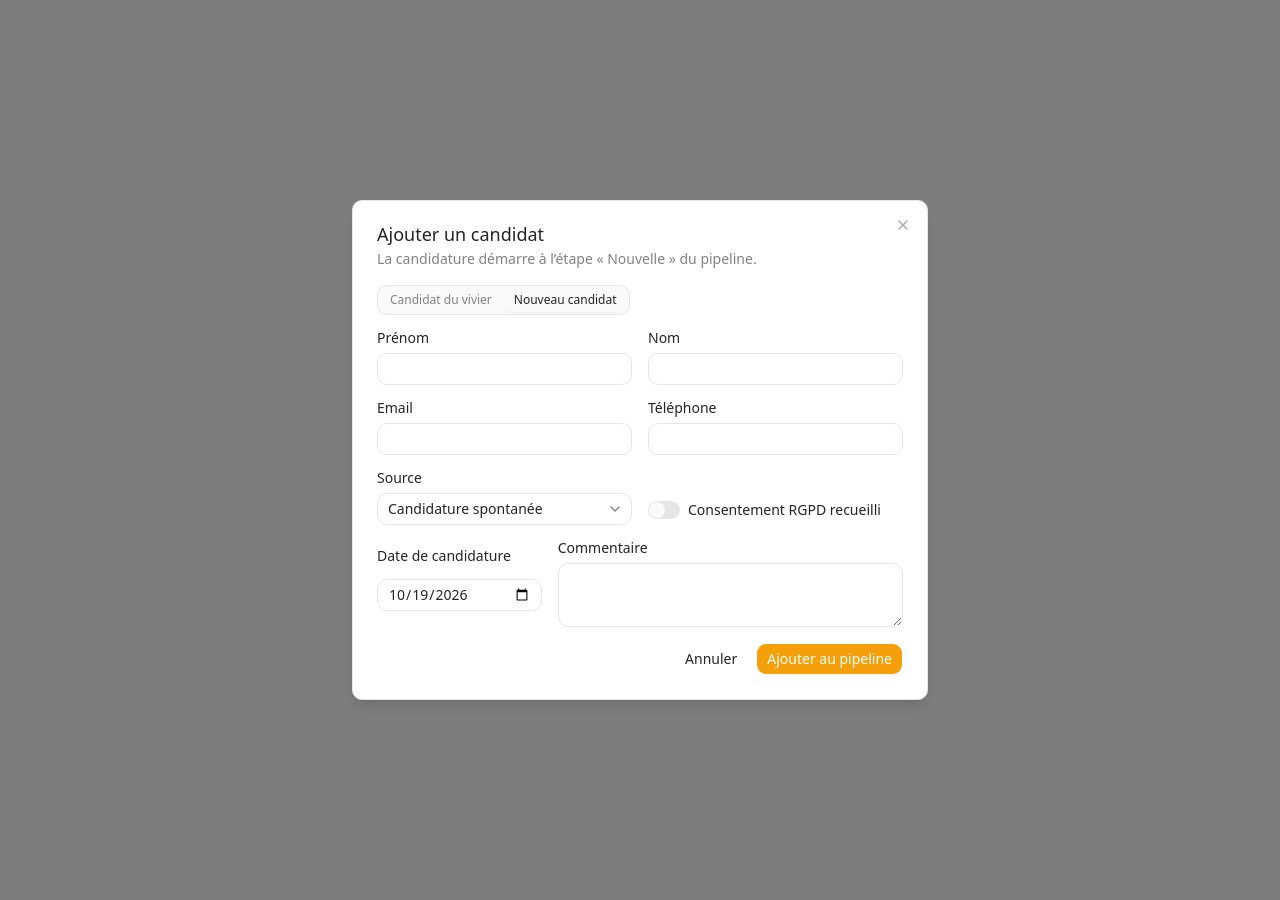
Scenario: AjoutCandidatureDialog › erreur serveur (doublon d’email) affichée sur le champ
In the field labelled "Prénom": (504, 369) [377, 353, 632, 385], type "Léa"
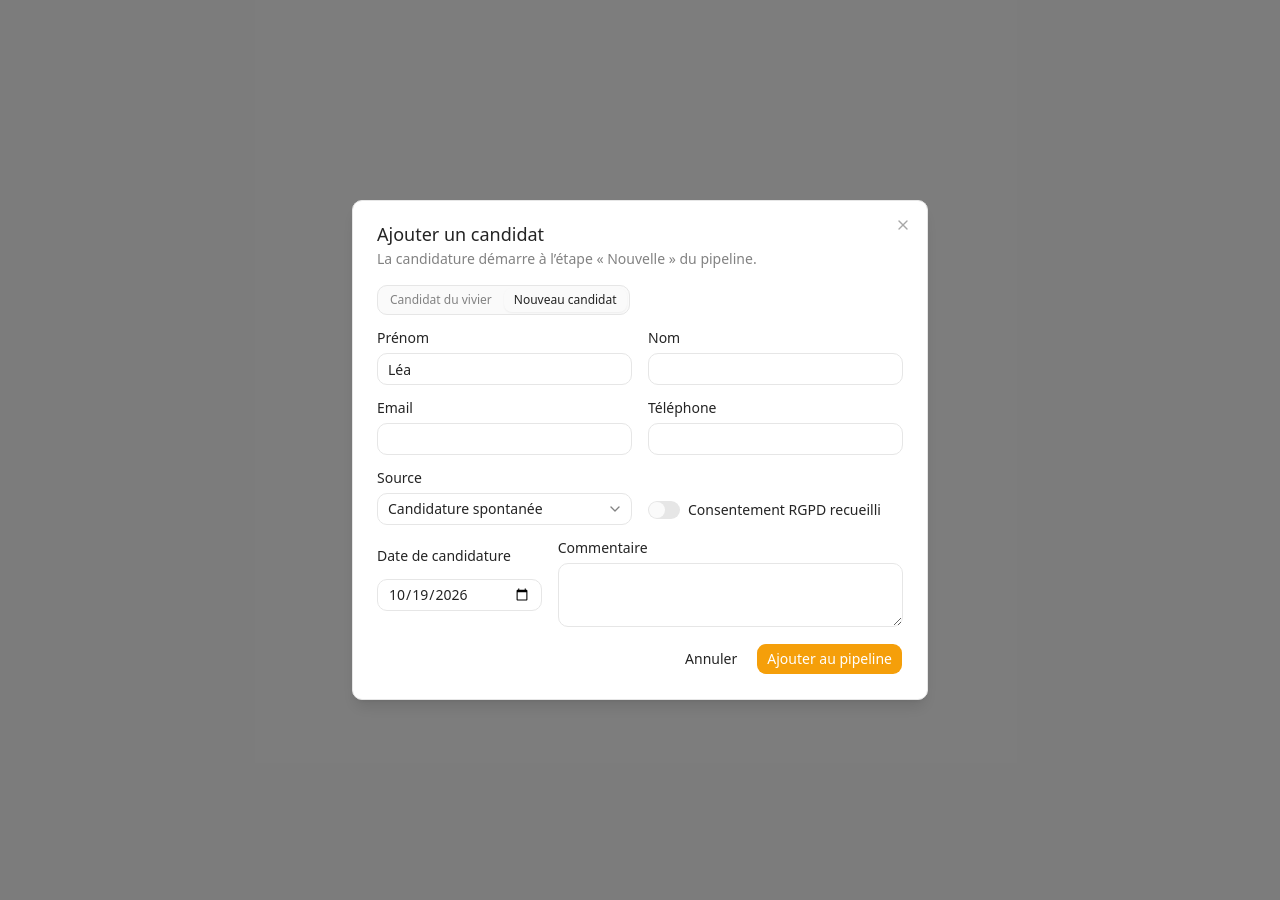
In the field labelled "Nom": (776, 369) [648, 353, 903, 385], type "Durand"
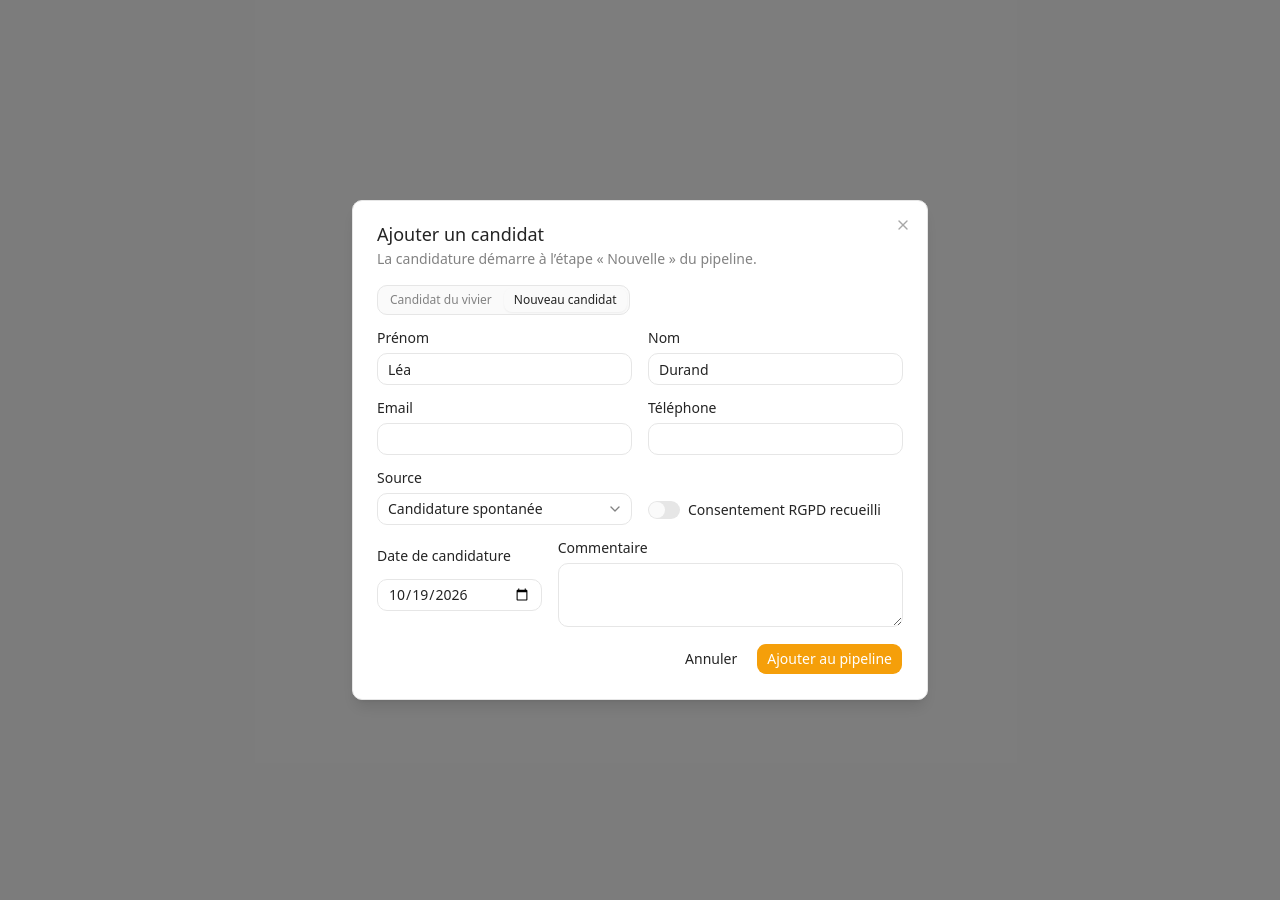
In the field labelled "Email": (504, 439) [377, 423, 632, 455], type "lea@exemple.fr"
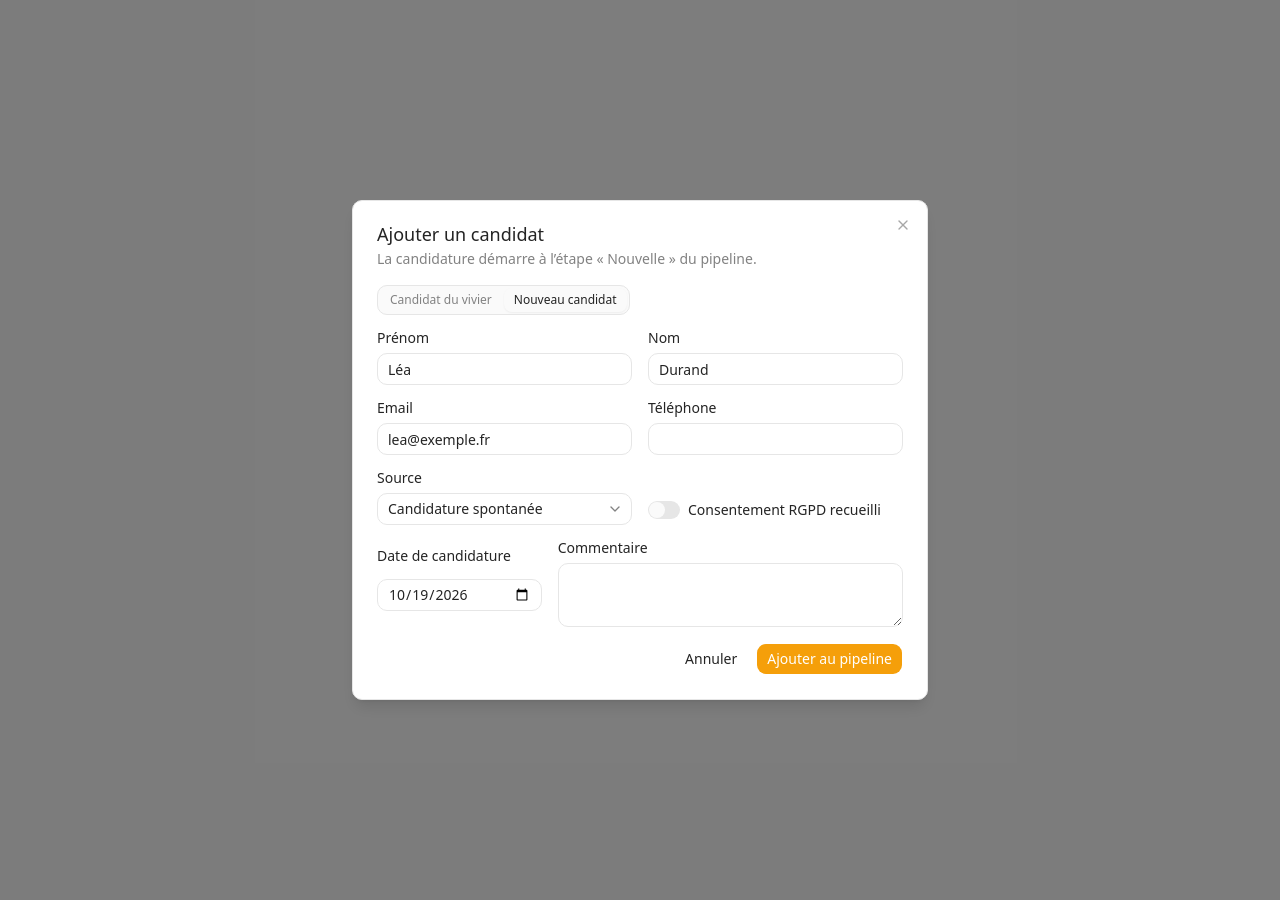
Click the button "Ajouter au pipeline": click(830, 659) [756, 643, 903, 675]
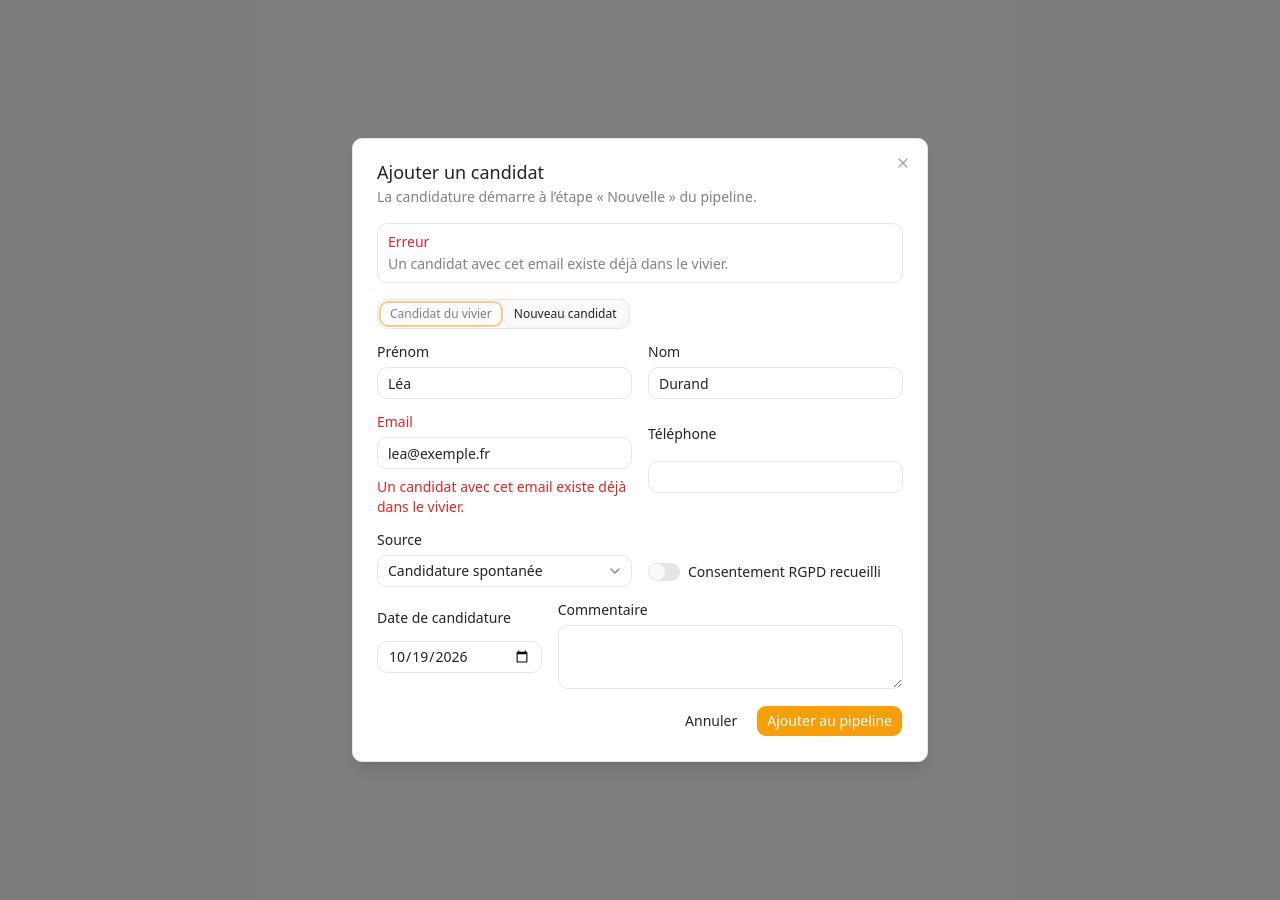
Check: the text "Un candidat avec cet email existe déjà dans le vivier." is shown 2 times, box [388, 254, 728, 273]; [377, 477, 632, 517]
